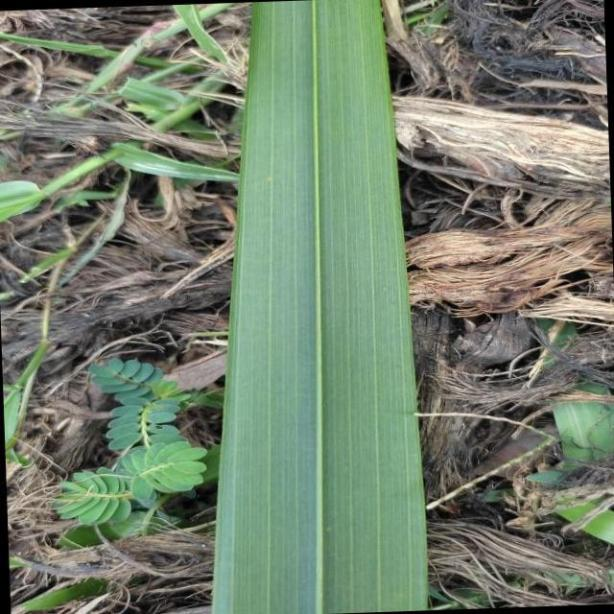Healthy: (211, 0, 425, 614)
